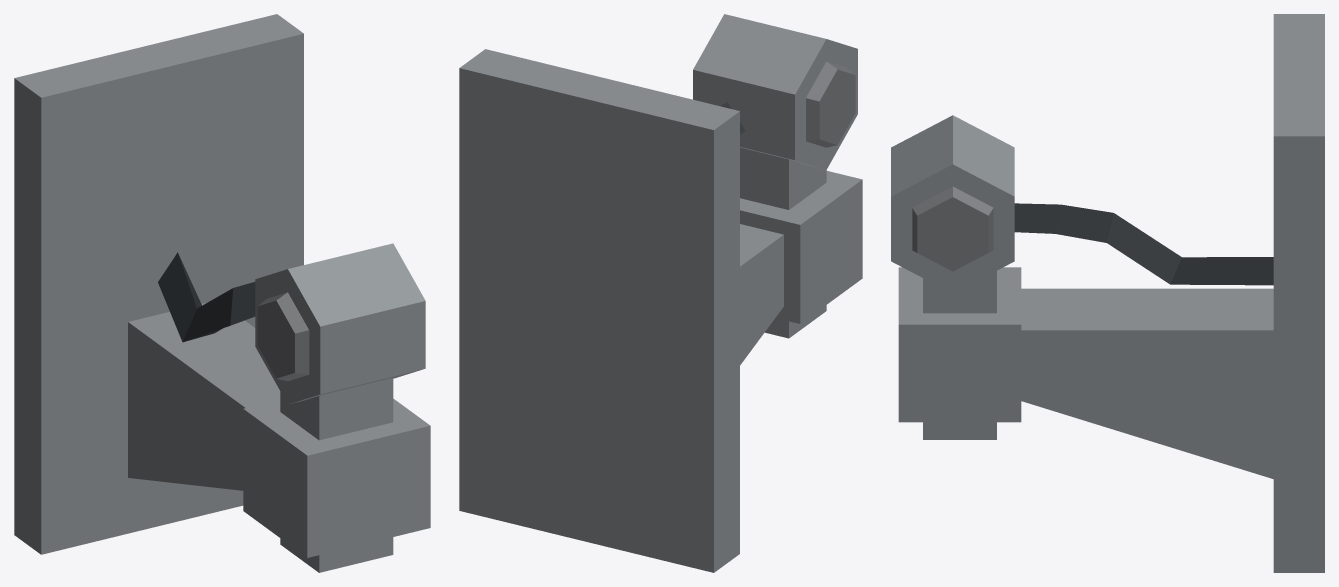
File: SM_Prop_Security_Camera_01.obj
3 renders of one model, left to right at view 1: azimuth 30°, elevation 25°; view 2: azimuth 150°, elevation 25°; view 3: azimuth 270°, elevation 25°, orthographic. The views are drawn at different scales.
Parts seen in each view (by area): view 1: SM_Prop_Security_Camera_01_0; view 2: SM_Prop_Security_Camera_01_0; view 3: SM_Prop_Security_Camera_01_0.
Boxes of the visible parts, x1,y1,x2,y2 form: SM_Prop_Security_Camera_01_0: [14, 14, 430, 572]; SM_Prop_Security_Camera_01_0: [459, 14, 862, 572]; SM_Prop_Security_Camera_01_0: [891, 14, 1324, 572].
Size of the model in its own units: 0.1806 by 0.3002 by 0.2704.
1 material, 1 textured.
